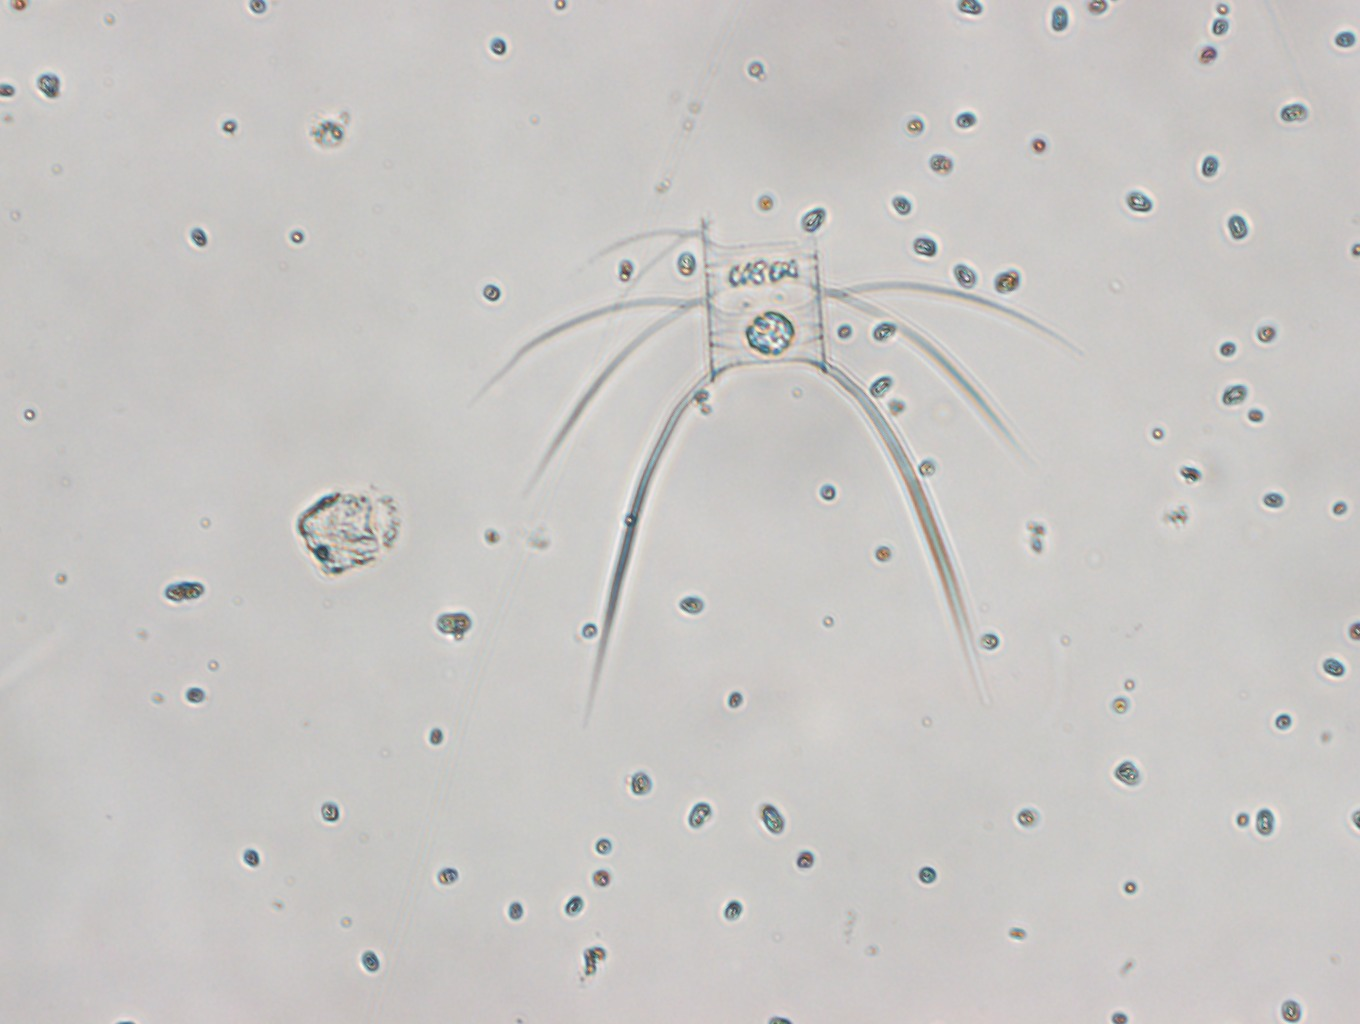chaetoceros: (476, 205, 1078, 722)
